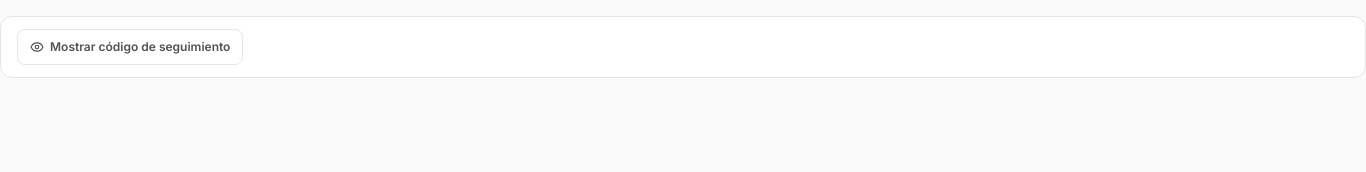
Test: recuperación privada del código › cancels while loading, does not duplicate and ignores late responses after hide
Later steps or results of the test are not shown.
Click the button "Mostrar código de seguimiento" at point(130, 47), box [17,29,243,65]
Click the button "Mostrar código de seguimiento" at point(130, 47), box [17,29,243,65]
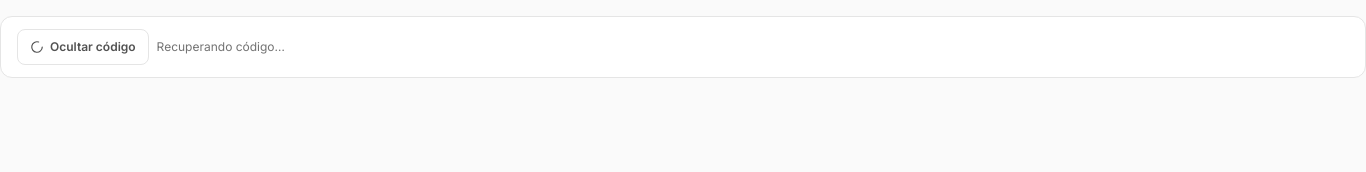
expect the message shows "Recuperando": met, box [157,39,285,54]
Click the button "Ocultar código" at point(83, 47), box [17,29,149,65]
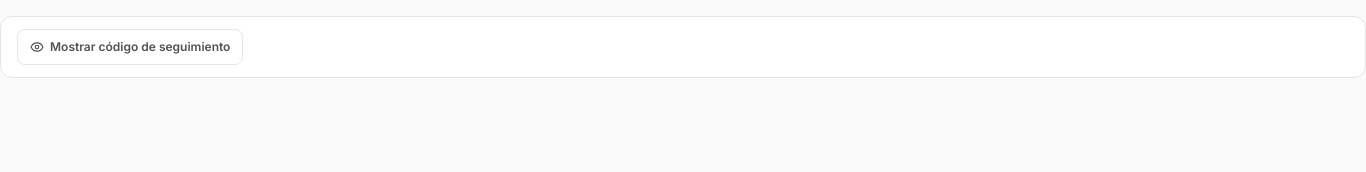
Click the button "Mostrar código de seguimiento" at point(130, 47), box [17,29,243,65]
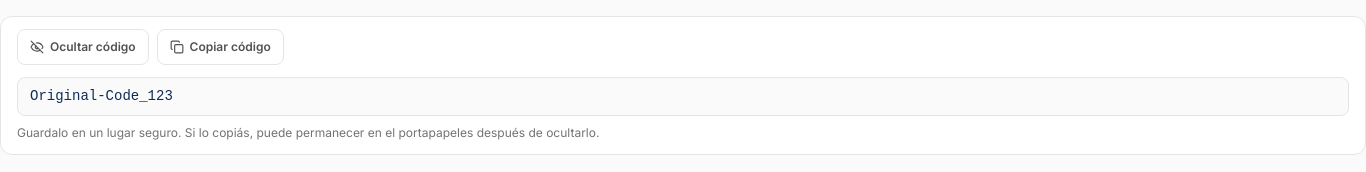
expect the text "Original-Code_123" is shown: met, box [17,77,1349,116]
